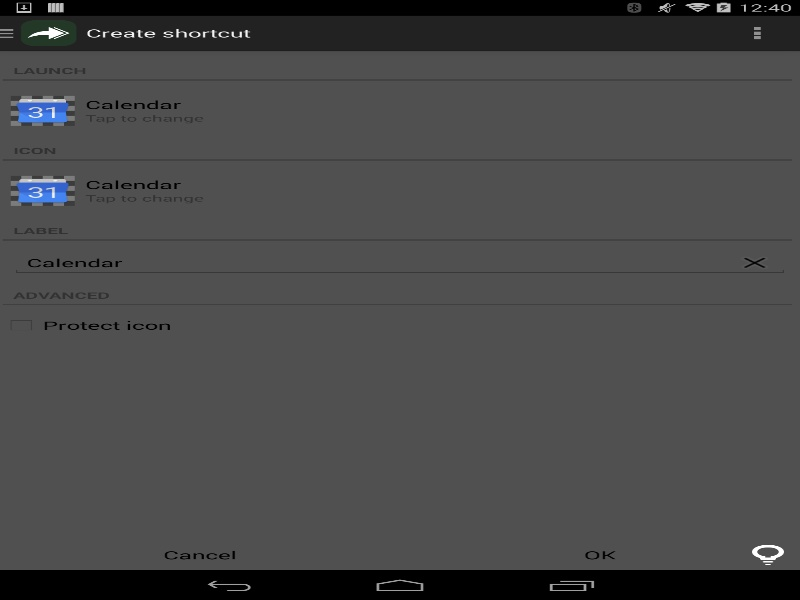Button: (0, 540, 400, 570), (400, 540, 800, 570), (714, 15, 800, 50)
Input: (10, 250, 789, 275)
